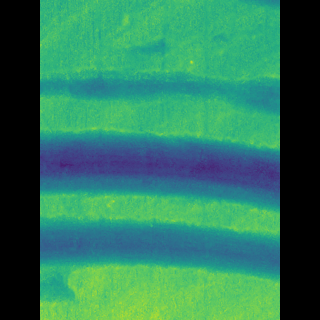Loch: (69, 129, 251, 215), (69, 216, 250, 284), (69, 59, 250, 118)
